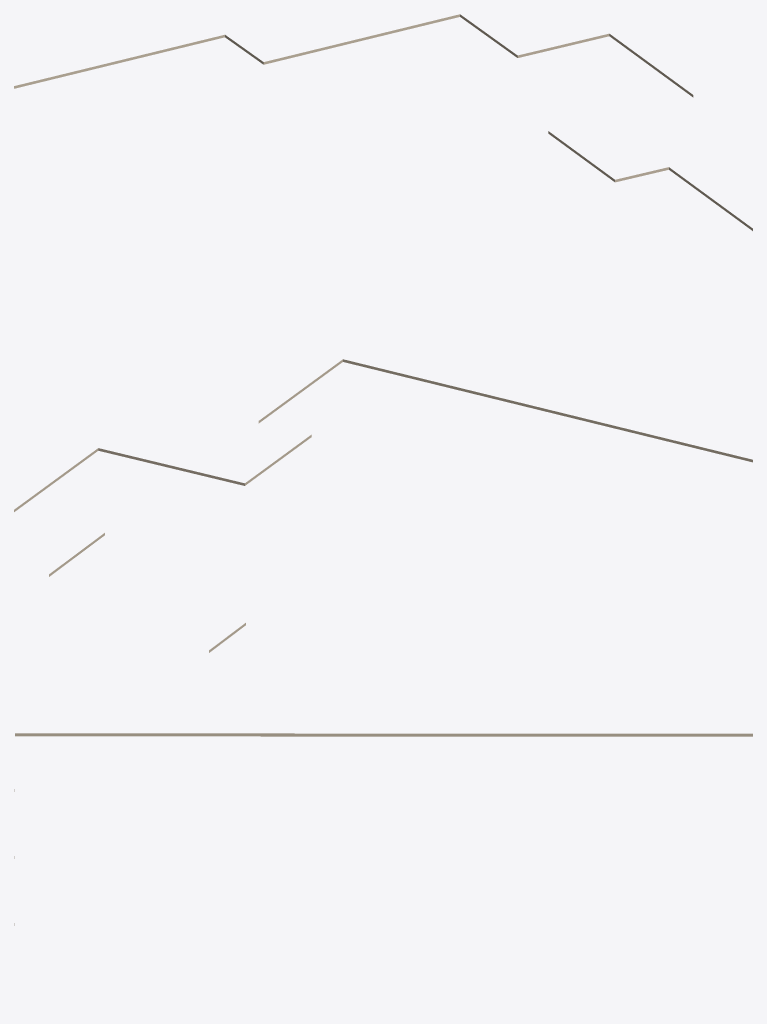
Rendered from house.gltf.
The picture shows the model from 3 angles, top to bottom: view 1: azimuth 30°, elevation 25°; view 2: azimuth 150°, elevation 25°; view 3: azimuth 270°, elevation 25°; orthographic projection. The views are drawn at different scales.
Visible parts, largest first — view 1: Renderer Node; view 2: Renderer Node; view 3: Renderer Node.
Boxes of the visible parts, left/top/right/bottom form: Renderer Node: left=14, top=14, right=752, bottom=230; Renderer Node: left=14, top=359, right=752, bottom=652; Renderer Node: left=14, top=733, right=752, bottom=925.
Bounding box in the file's own units: 582 × 3 × 665.
